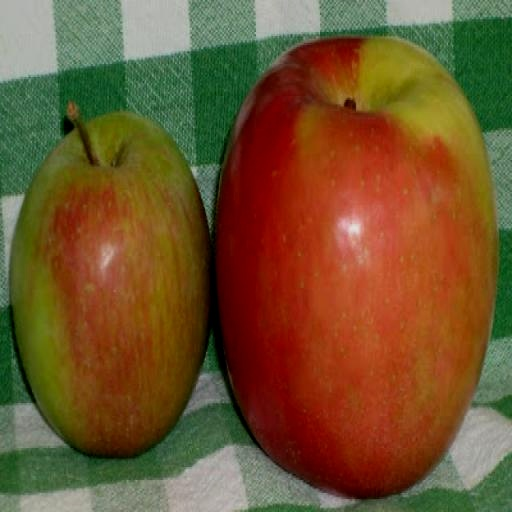fruit: (216, 38, 497, 496), (10, 104, 211, 455)
